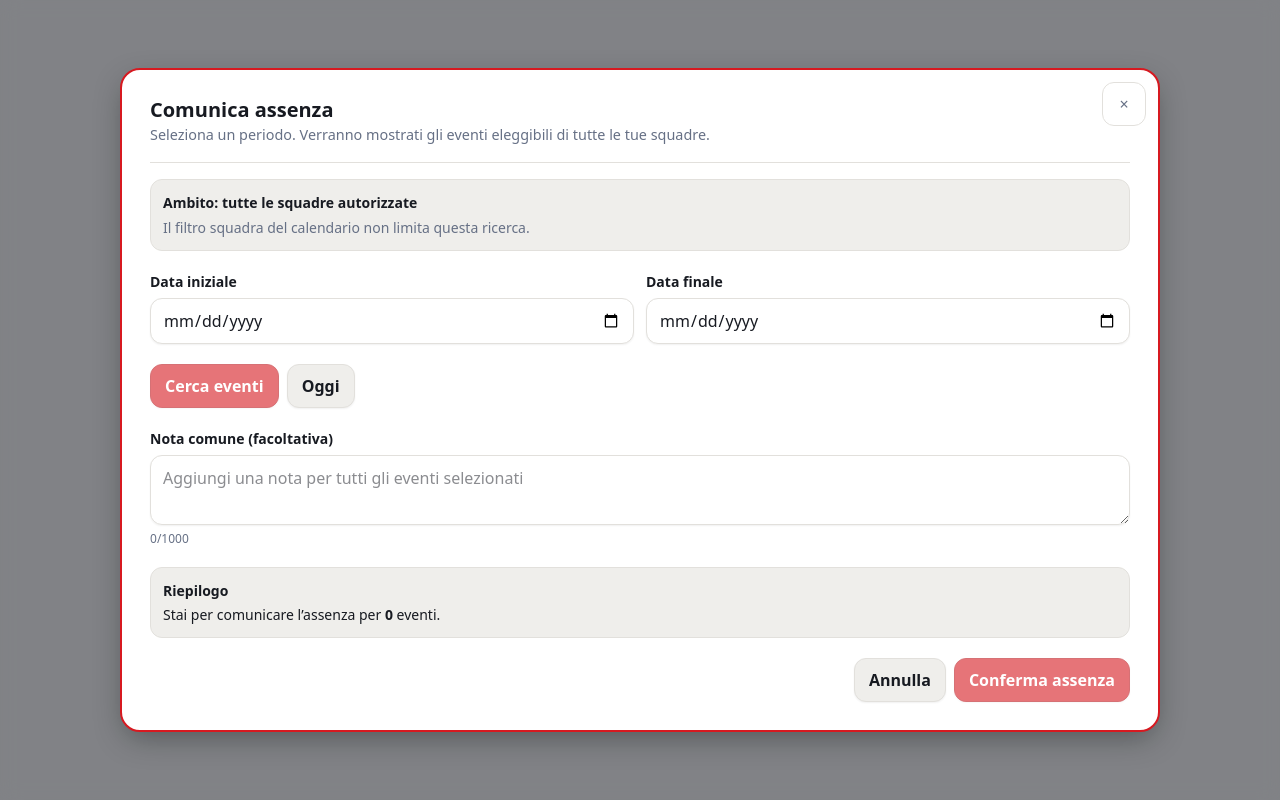
Scenario: EarlyAbsencePeriodModal › keeps the dialog open and refreshes atomically after a stale-event rejection
This screenshot has width=1280, height=800.
In the date field labelled "Data iniziale": (392, 321) x1=150 y1=298 x2=634 y2=344, type "2026-09-14"
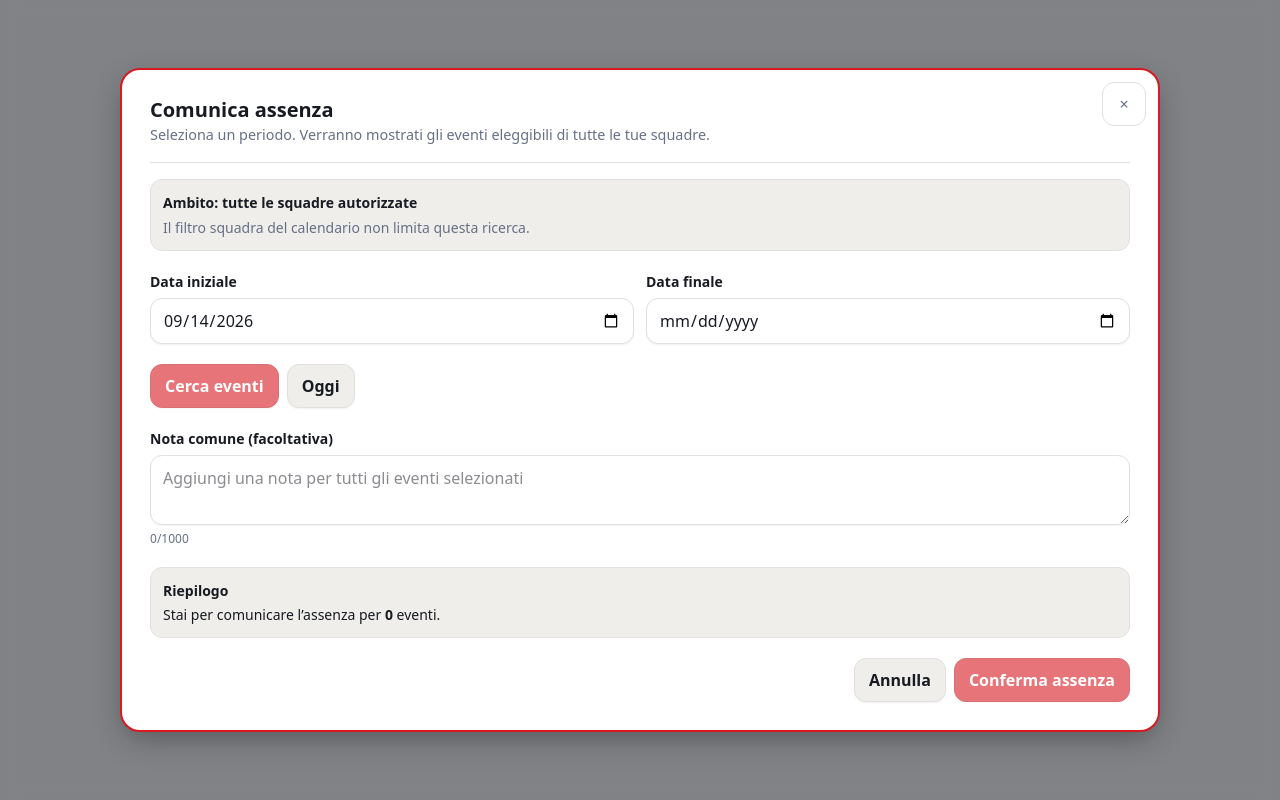
In the date field labelled "Data finale": (888, 321) x1=646 y1=298 x2=1130 y2=344, type "2026-09-20"
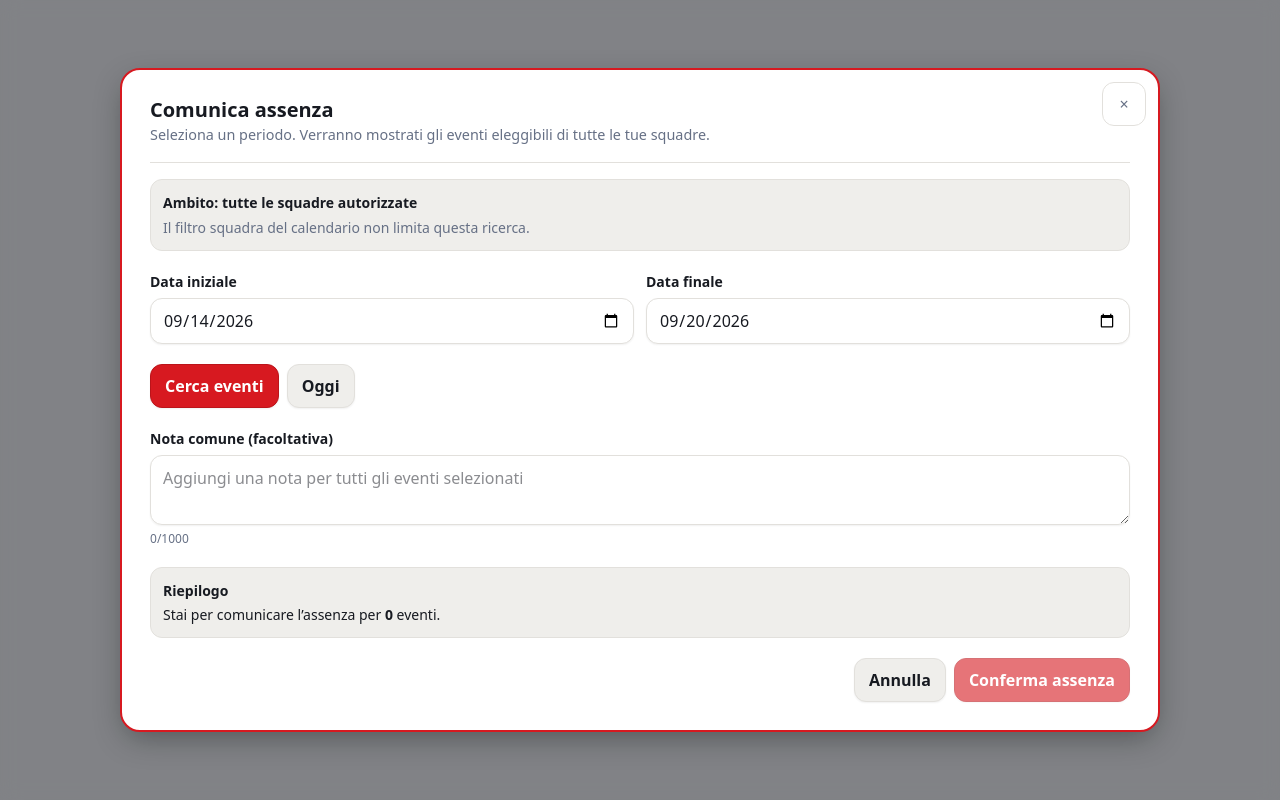
Click the button "Cerca eventi": (214, 386) x1=150 y1=364 x2=279 y2=408
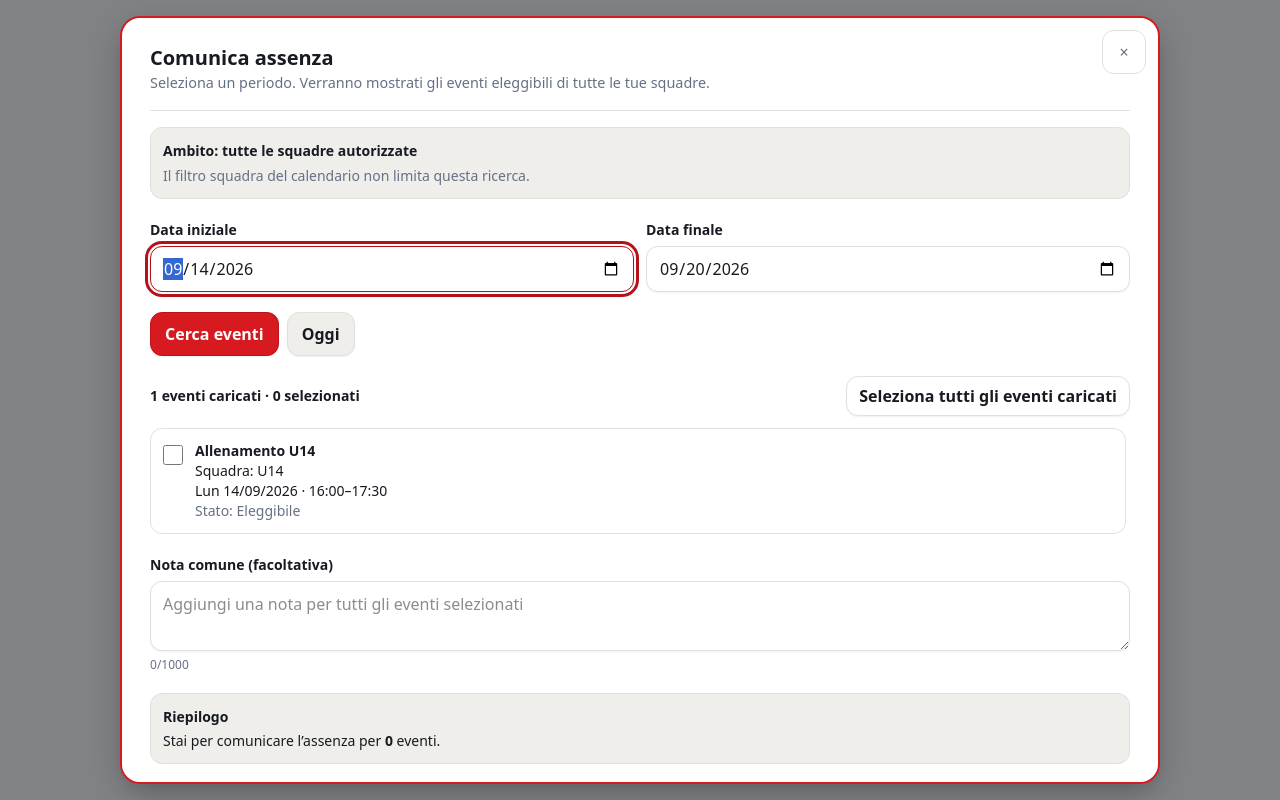
Check: the text "Squadra: U14" is shown, box x1=195 y1=461 x2=283 y2=480
Click the checkbox named "Seleziona Allenamento U14": (173, 455) x1=163 y1=445 x2=183 y2=465
(page scrolled)
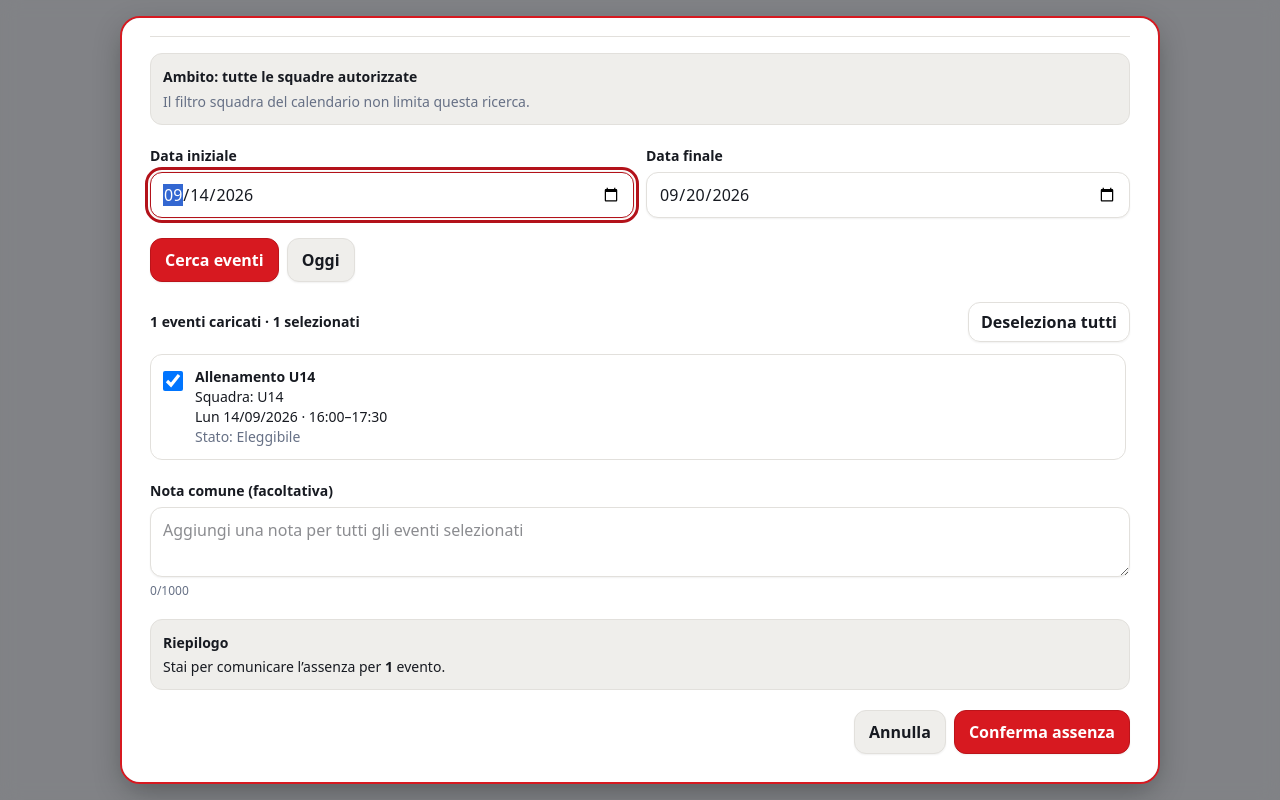
Click the button "Conferma assenza": (1042, 732) x1=954 y1=710 x2=1130 y2=754
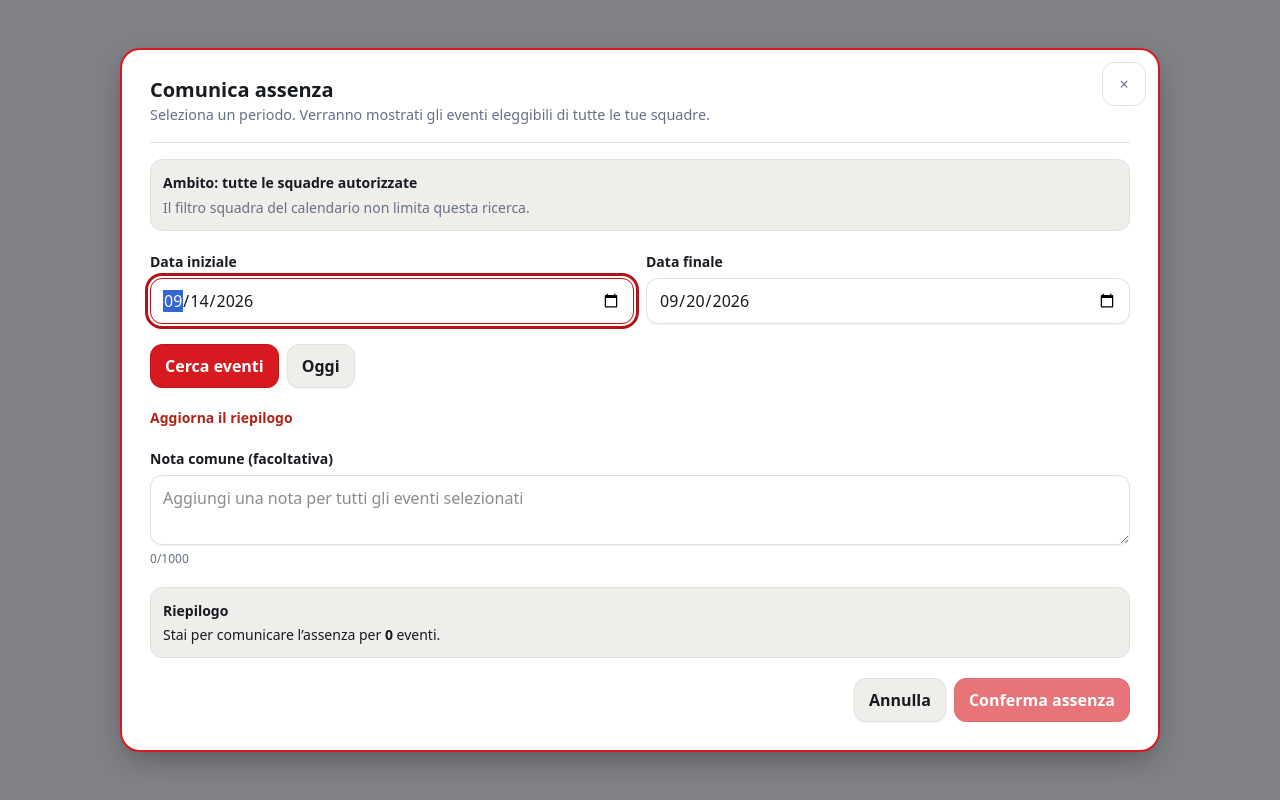
Check: the text "Aggiorna il riepilogo" is shown, box x1=150 y1=408 x2=293 y2=427
Check: the heading "Comunica assenza" is shown, box x1=150 y1=76 x2=334 y2=103
